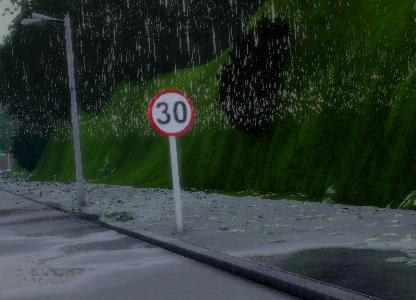Speed_30: (147, 87, 197, 138)
